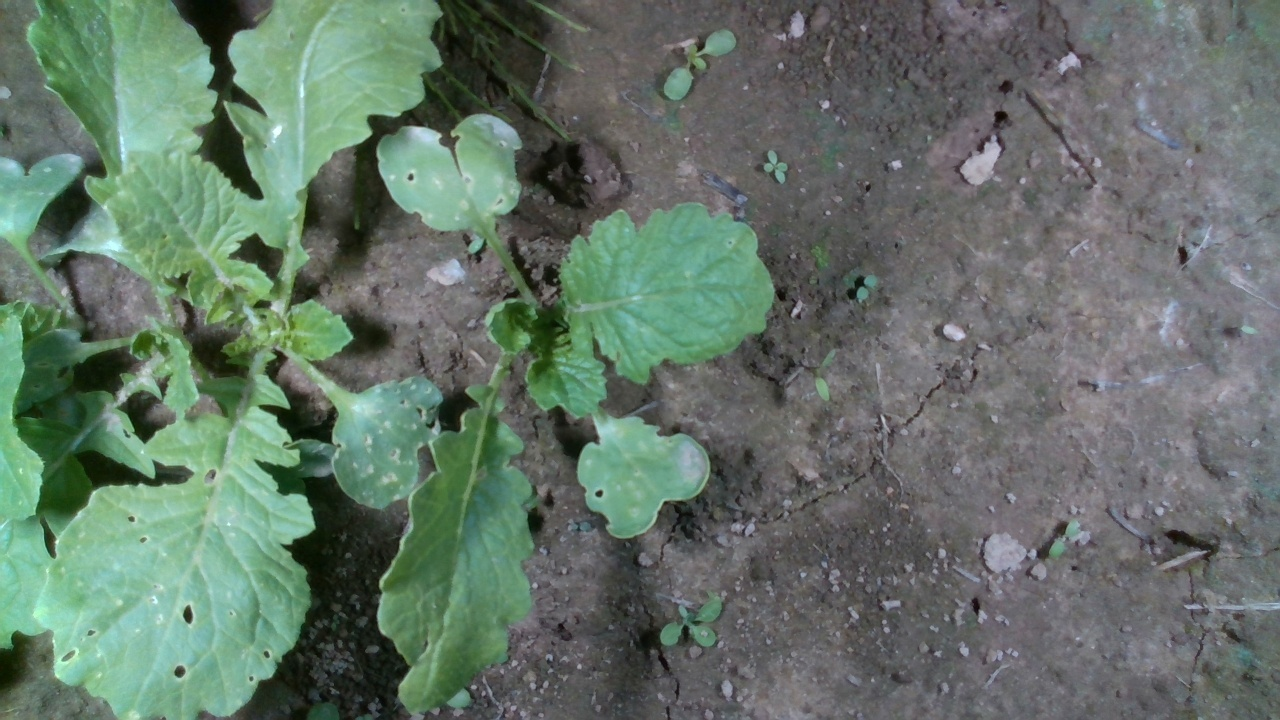weed: (662, 27, 735, 103), (657, 596, 723, 654), (1048, 518, 1082, 561), (760, 147, 789, 187), (856, 273, 877, 301)
